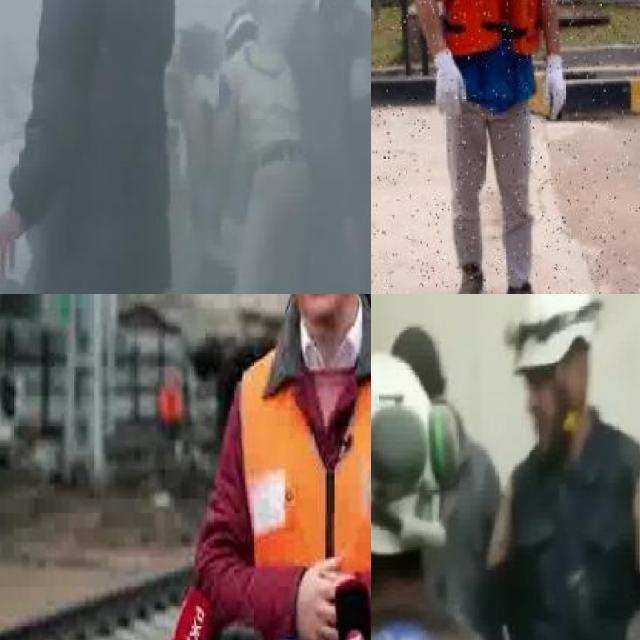apron: (429, 44, 466, 117), (540, 52, 568, 121)
